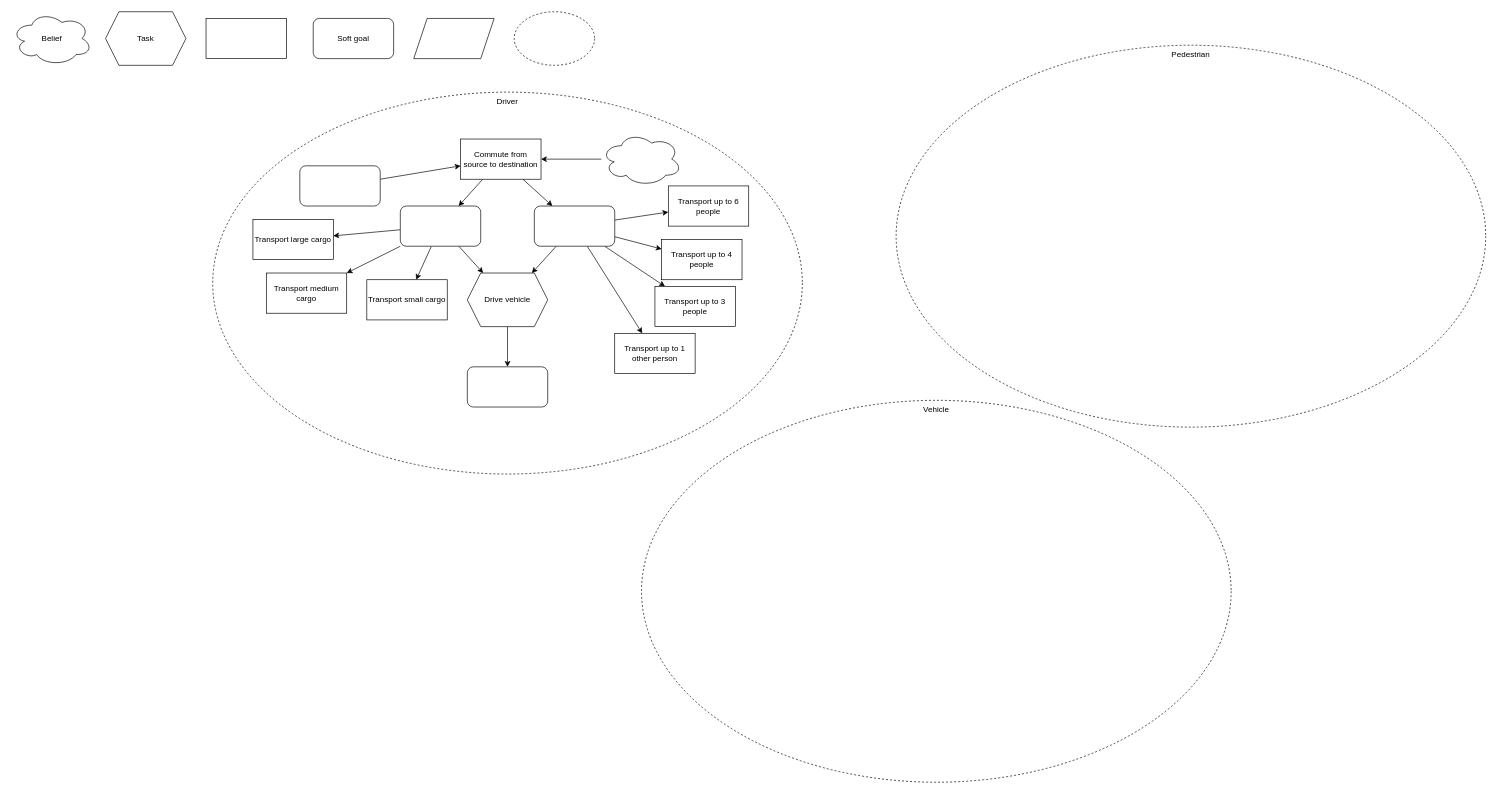
Some shapes in this 1497 by 794 pixel diagram are drawn without their labels. The box of each missing label's shape, as (x1, y1, x2, y2) in pixels:
Drive safely: (467, 366, 548, 407)
Hard goal: (205, 18, 286, 59)
Have fun: (601, 132, 682, 186)
Resource: (413, 18, 494, 59)
Save time: (299, 165, 380, 206)
Stakeholder: (514, 11, 595, 65)
Transport people: (534, 205, 615, 246)
Transport stuff: (400, 205, 481, 246)
